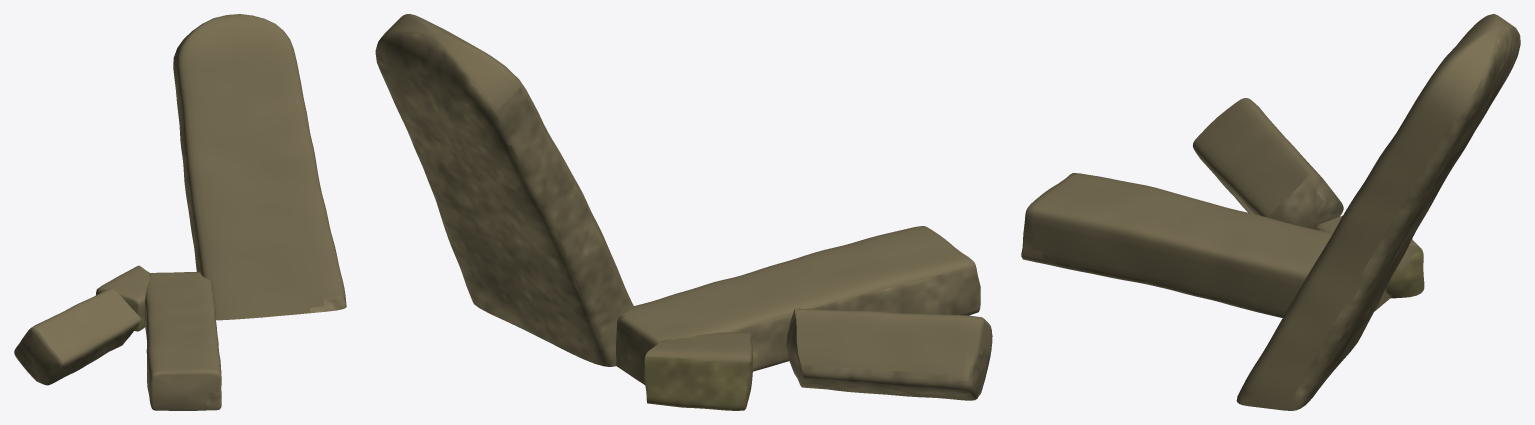
File: ZonHenge09.glb
The picture shows the model from 3 angles, left to right: view 1: azimuth 30°, elevation 25°; view 2: azimuth 150°, elevation 25°; view 3: azimuth 270°, elevation 25°; orthographic projection. The views are drawn at different scales.
Parts seen in each view (by area): view 1: ZonHenge09; view 2: ZonHenge09; view 3: ZonHenge09.
Boxes of the visible parts, bbox=[...] form: ZonHenge09: bbox=[14, 14, 346, 410]; ZonHenge09: bbox=[375, 14, 992, 410]; ZonHenge09: bbox=[1021, 14, 1520, 410].
Size of the model in its own units: 5.34 by 3.64 by 4.65.
Materials: 2 (1 with a texture image).
